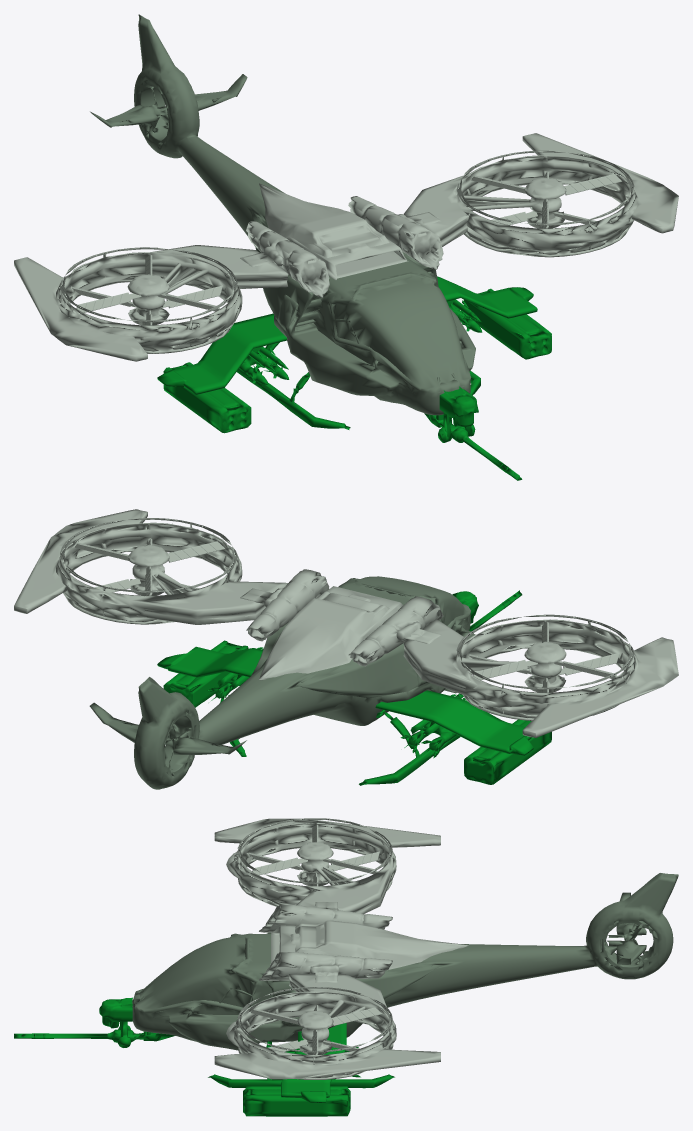
File: helicopter.gltf
3 views of the same model, one above another, from view 1: azimuth 30°, elevation 25°; view 2: azimuth 150°, elevation 25°; view 3: azimuth 270°, elevation 25° (orthographic). The views are drawn at different scales.
Visible parts, largest first — view 1: pasted__P2, pasted__P1, pasted__P3, RotorRightUpperBlades, RotorLeftUpperBlades, RotorLeftLowerBlades; view 2: pasted__P2, pasted__P1, pasted__P3, RotorRightUpperBlades, RotorLeftUpperBlades, RotorLeftLowerBlades; view 3: pasted__P2, pasted__P1, pasted__P3, RotorRightUpperBlades, RotorLeftUpperBlades, RotorLeftLowerBlades.
Boxes of the visible parts, x1,y1,x2,y2 form: pasted__P2: (14, 133, 678, 361); pasted__P1: (90, 14, 475, 415); pasted__P3: (157, 276, 551, 480); RotorRightUpperBlades: (471, 174, 621, 228); RotorLeftUpperBlades: (76, 254, 220, 312); RotorLeftLowerBlades: (72, 285, 222, 325); pasted__P2: (14, 509, 678, 737); pasted__P1: (89, 576, 475, 789); pasted__P3: (157, 590, 551, 785); RotorRightUpperBlades: (74, 541, 225, 595); RotorLeftUpperBlades: (473, 622, 617, 680); RotorLeftLowerBlades: (468, 653, 619, 692); pasted__P2: (214, 818, 468, 1079); pasted__P1: (132, 873, 678, 1050); pasted__P3: (14, 997, 394, 1116); RotorRightUpperBlades: (251, 1007, 381, 1054); RotorLeftUpperBlades: (252, 824, 377, 875); RotorLeftLowerBlades: (248, 851, 379, 886).
Size of the model in its own units: 24.66 by 7.92 by 26.58.
